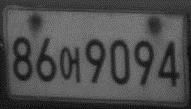0: (109, 39, 131, 85)
4: (158, 40, 180, 88)
6: (35, 37, 56, 83)
8: (11, 36, 33, 80)
9: (133, 39, 154, 87), (85, 39, 106, 84)
어: (58, 44, 81, 82)
